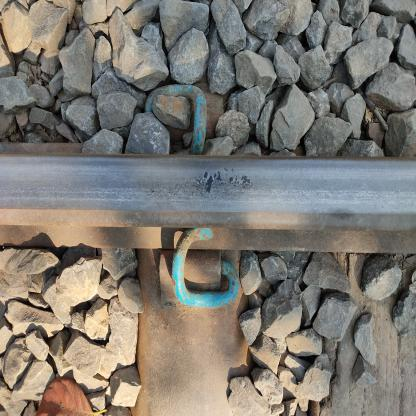Non Defective: (172, 244, 295, 353), (165, 92, 270, 215)
